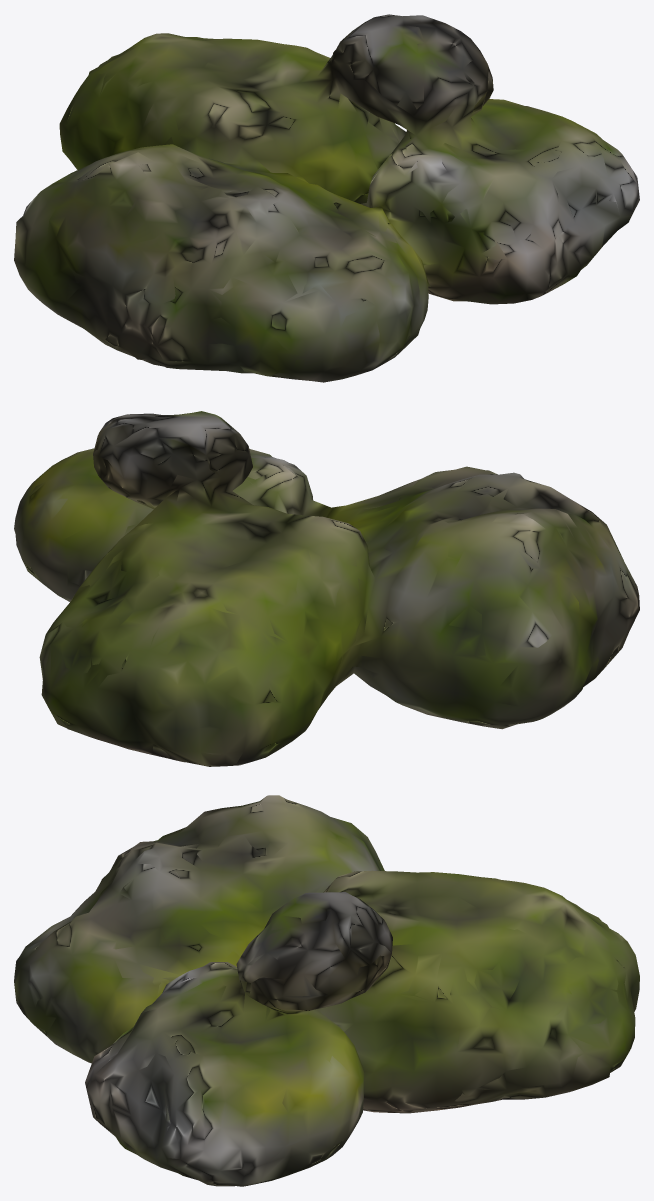
Rendered from boulder_b.1.glb.
The picture shows the model from 3 angles, top to bottom: view 1: azimuth 30°, elevation 25°; view 2: azimuth 150°, elevation 25°; view 3: azimuth 270°, elevation 25°; orthographic projection. The views are drawn at different scales.
Parts seen in each view (by area): view 1: lod; view 2: lod; view 3: lod.
Part boxes in pixels (bbox=[...]): lod: bbox=[14, 14, 639, 382]; lod: bbox=[14, 411, 639, 766]; lod: bbox=[14, 795, 639, 1186].
Bounding box in the file's own units: 0.9944 × 0.3626 × 0.9365.
